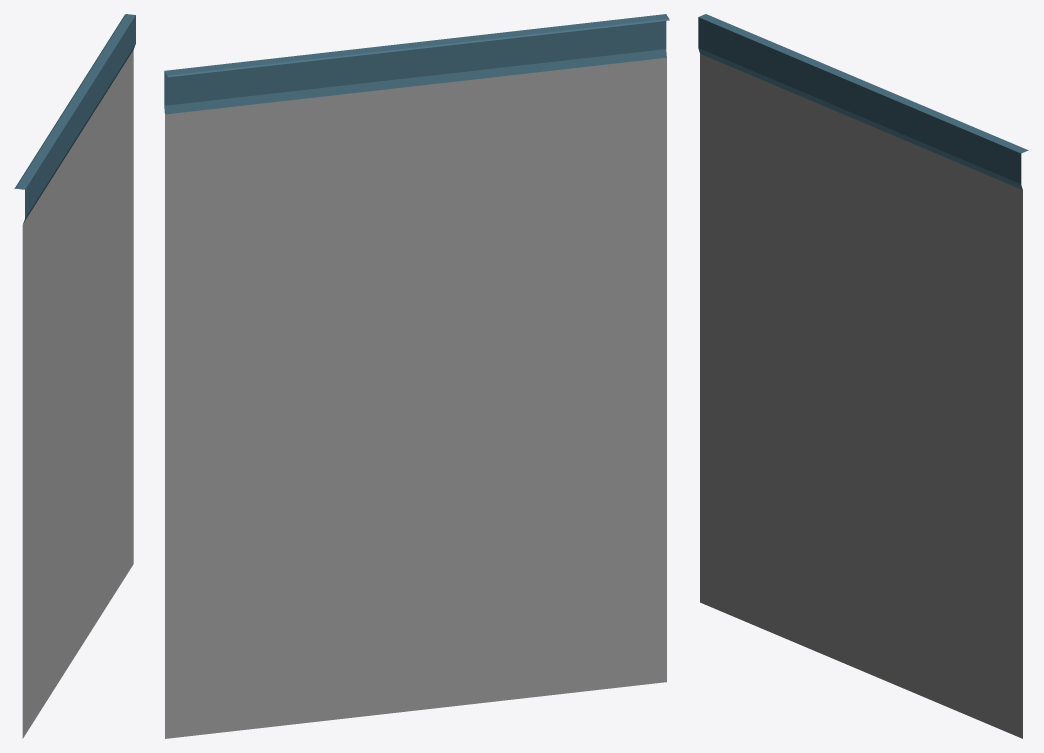
File: SM_WallTileAir45.fbx
3 renders of one model, left to right at view 1: azimuth 30°, elevation 25°; view 2: azimuth 150°, elevation 25°; view 3: azimuth 270°, elevation 25°, orthographic. The views are drawn at different scales.
Visible parts, largest first — view 1: SM_WallTileAir; view 2: SM_WallTileAir; view 3: SM_WallTileAir.
Boxes of the visible parts, x1,y1,x2,y2 form: SM_WallTileAir: (14, 14, 135, 738); SM_WallTileAir: (164, 14, 669, 738); SM_WallTileAir: (698, 14, 1028, 738).
Size of the model in its own units: 205 by 401 by 205.
